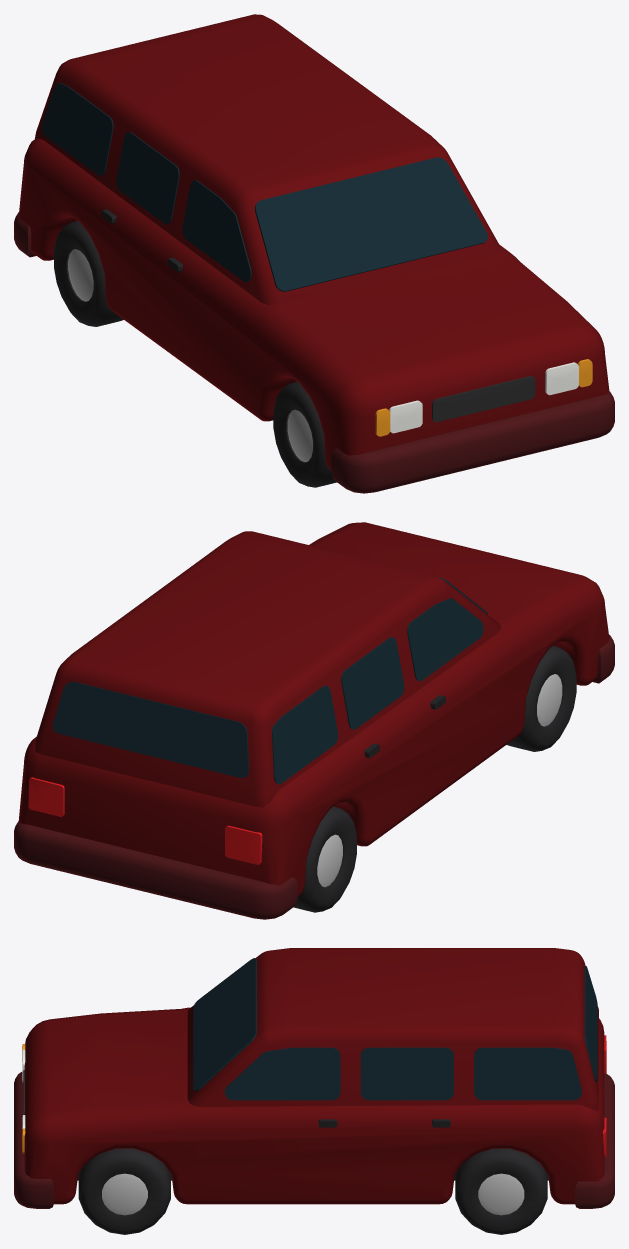
Rendered from car_wagon.glb.
3 views of the same model, one above another, from view 1: azimuth 30°, elevation 25°; view 2: azimuth 150°, elevation 25°; view 3: azimuth 270°, elevation 25° (orthographic). The views are drawn at different scales.
Parts seen in each view (by area): view 1: body, wheel_rear_right, wheel_front_right; view 2: body, wheel_front_right, wheel_rear_right; view 3: body, wheel_front_left, wheel_rear_left.
Boxes of the visible parts, x1=… form: body: x1=14, y1=14, x2=614, y2=493; wheel_rear_right: x1=54, y1=221, x2=123, y2=326; wheel_front_right: x1=273, y1=381, x2=336, y2=487; body: x1=14, y1=522, x2=614, y2=919; wheel_front_right: x1=506, y1=645, x2=576, y2=751; wheel_rear_right: x1=293, y1=806, x2=356, y2=912; body: x1=14, y1=948, x2=614, y2=1208; wheel_front_left: x1=78, y1=1148, x2=170, y2=1234; wheel_rear_left: x1=455, y1=1148, x2=547, y2=1234.
Size of the model in its own units: 2 by 1.63 by 4.5.
